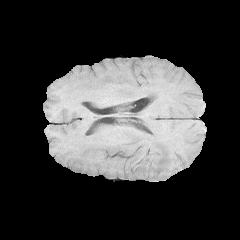glioma: (111, 126, 173, 179)
